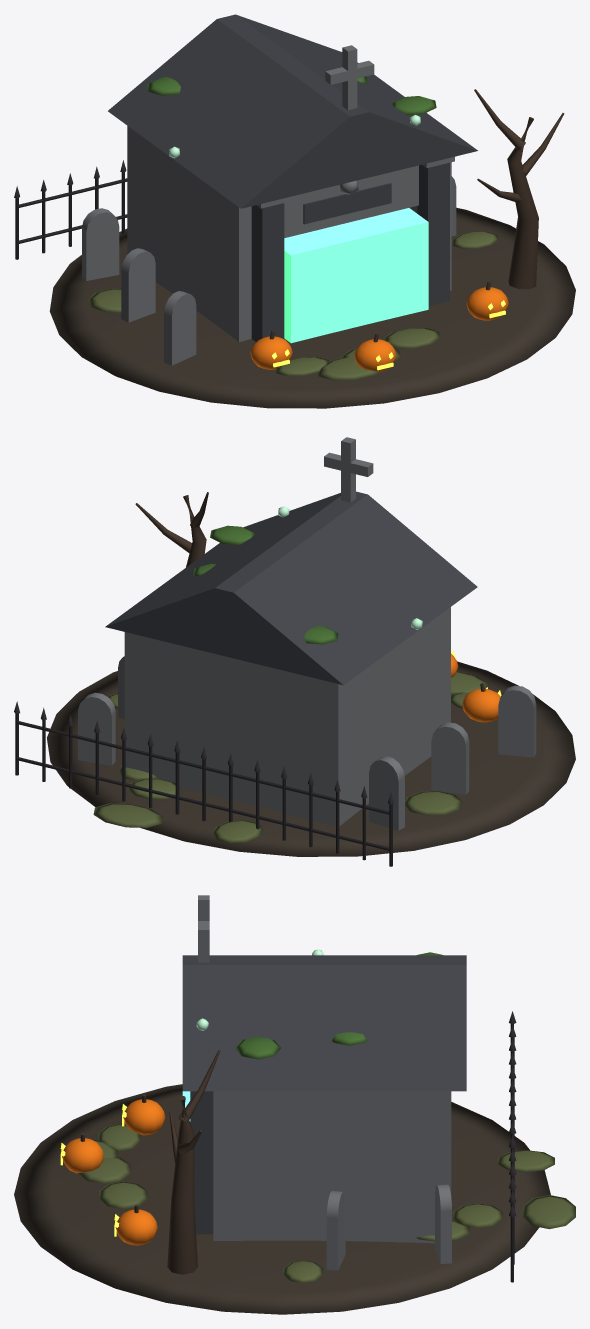
Rendered from HauntedCryptFurnace_Roblox.fbx.
The picture shows the model from 3 angles, top to bottom: view 1: azimuth 30°, elevation 25°; view 2: azimuth 150°, elevation 25°; view 3: azimuth 270°, elevation 25°; orthographic projection. The views are drawn at different scales.
Visible parts, largest first — view 1: DarkStone, GraveSoil, CryptStone, BurnZone, DeadWood, DeadGrass, Pumpkin, WroughtIron, Moss; view 2: CryptStone, DarkStone, GraveSoil, WroughtIron, DeadGrass, DeadWood, Moss, Pumpkin; view 3: GraveSoil, DarkStone, CryptStone, DeadGrass, DeadWood, Pumpkin, WroughtIron, Moss.
Part boxes in pixels (<box>): DarkStone: <box>108,14,477,342</box>; GraveSoil: <box>49,207,575,408</box>; CryptStone: <box>82,45,456,365</box>; BurnZone: <box>284,208,428,343</box>; DeadWood: <box>269,89,564,342</box>; DeadGrass: <box>88,231,498,380</box>; Pumpkin: <box>250,287,508,371</box>; WroughtIron: <box>14,160,127,259</box>; Moss: <box>147,76,436,115</box>; CryptStone: <box>78,437,536,830</box>; DarkStone: <box>105,491,477,685</box>; GraveSoil: <box>47,661,575,856</box>; WroughtIron: <box>14,701,393,866</box>; DeadGrass: <box>93,671,488,843</box>; DeadWood: <box>135,492,485,691</box>; Moss: <box>193,525,338,644</box>; Pumpkin: <box>451,654,500,722</box>; GraveSoil: <box>14,1084,550,1314</box>; DarkStone: <box>182,955,466,1234</box>; CryptStone: <box>198,895,451,1270</box>; DeadGrass: <box>63,1124,575,1283</box>; DeadWood: <box>80,1050,220,1274</box>; Pumpkin: <box>62,1099,165,1245</box>; WroughtIron: <box>509,1011,516,1282</box>; Moss: <box>235,952,443,1059</box>.
Bounding box in the file's own units: 1480 × 855 × 1465.
